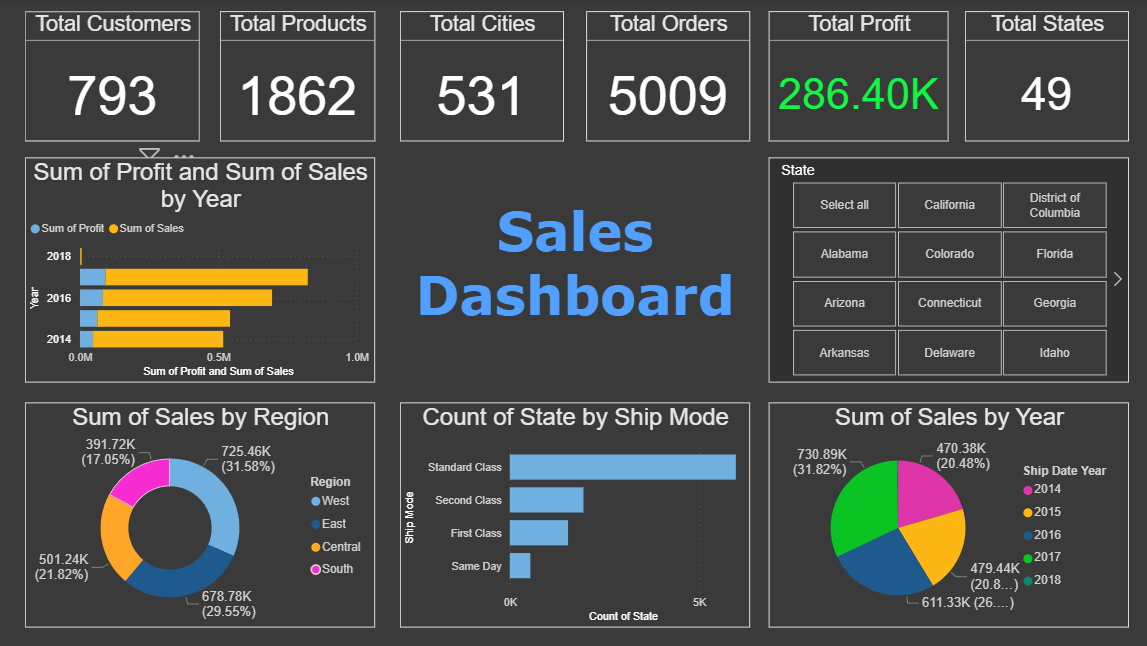

The dashboard page shown, as its layout file describes it:
{"tool":"powerbi","page":{"name":"Page 1","canvas":[1280,720],"ordinal":0},"visuals":[{"type":"card","title":"Total Customers","fields":{"Values":["Count(Sample - Superstore.Customer ID)"]},"box":[27.8,12.5,194.8,144.7],"z":0},{"type":"card","title":"Total Products","fields":{"Values":["Count(Sample - Superstore.Product ID)"]},"box":[244.9,12.5,172.5,144.7],"z":1000},{"type":"card","title":"Total Cities","fields":{"Values":["Count(Sample - Superstore.City)"]},"box":[445.2,12.5,182.3,144.7],"z":2000},{"type":"card","title":"Total Orders","fields":{"Values":["Count(Sample - Superstore.Order ID)"]},"box":[652.5,12.5,182.3,144.7],"z":3000},{"type":"card","title":"Total Profit","fields":{"Values":["Sum(Sample - Superstore.Profit)"]},"box":[855.7,12.5,200.3,144.7],"z":4000},{"type":"card","title":"Total States","fields":{"Values":["Count(Sample - Superstore.State)"]},"box":[1074.1,12.5,182.3,144.7],"z":5000},{"type":"donutChart","fields":{"Y":["Sum(Sample - Superstore.Sales)"],"Category":["Sample - Superstore.Region"]},"box":[27.8,448,389.6,250.4],"z":6000},{"type":"slicer","fields":{"Values":["Sample - Superstore.State"]},"box":[855.7,175.3,400.7,250.4],"z":7002},{"type":"pieChart","fields":{"Y":["Sum(Sample - Superstore.Sales)"],"Category":["Sample - Superstore.Ship Date.Variation.Date Hierarchy.Year"]},"box":[855.7,448,400.7,250.4],"z":7003},{"type":"barChart","fields":{"Category":["Sample - Superstore.Ship Mode"],"Y":["CountNonNull(Sample - Superstore.State)"]},"box":[445.2,448,389.6,250.4],"z":7005},{"type":"barChart","fields":{"Category":["Sample - Superstore.Ship Date.Variation.Date Hierarchy.Year"],"Y":["Sum(Sample - Superstore.Profit)","Sum(Sample - Superstore.Sales)"]},"box":[27.8,175.3,389.6,250.4],"z":7006},{"type":"textbox","box":[445.2,215.7,389.6,168.3],"z":7007}]}

Visuals, with their boxes in screenshot pixels (x1, y1, x2, y2), scaled from the page's 1280x720 canvas onto the 1147x646 screenshot:
"Total Customers" card: BBox(25, 11, 199, 141)
"Total Products" card: BBox(219, 11, 374, 141)
"Total Cities" card: BBox(399, 11, 562, 141)
"Total Orders" card: BBox(585, 11, 748, 141)
"Total Profit" card: BBox(767, 11, 946, 141)
"Total States" card: BBox(962, 11, 1126, 141)
donutChart - Sum(Sample - Superstore.Sales) x Sample - Superstore.Region: BBox(25, 402, 374, 627)
slicer - Sample - Superstore.State: BBox(767, 157, 1126, 382)
pieChart - Sum(Sample - Superstore.Sales) x Sample - Superstore.Ship Date.Variation.Date Hierarchy.Year: BBox(767, 402, 1126, 627)
barChart - Sample - Superstore.Ship Mode x CountNonNull(Sample - Superstore.State): BBox(399, 402, 748, 627)
barChart - Sample - Superstore.Ship Date.Variation.Date Hierarchy.Year x Sum(Sample - Superstore.Profit): BBox(25, 157, 374, 382)
textbox: BBox(399, 194, 748, 345)
